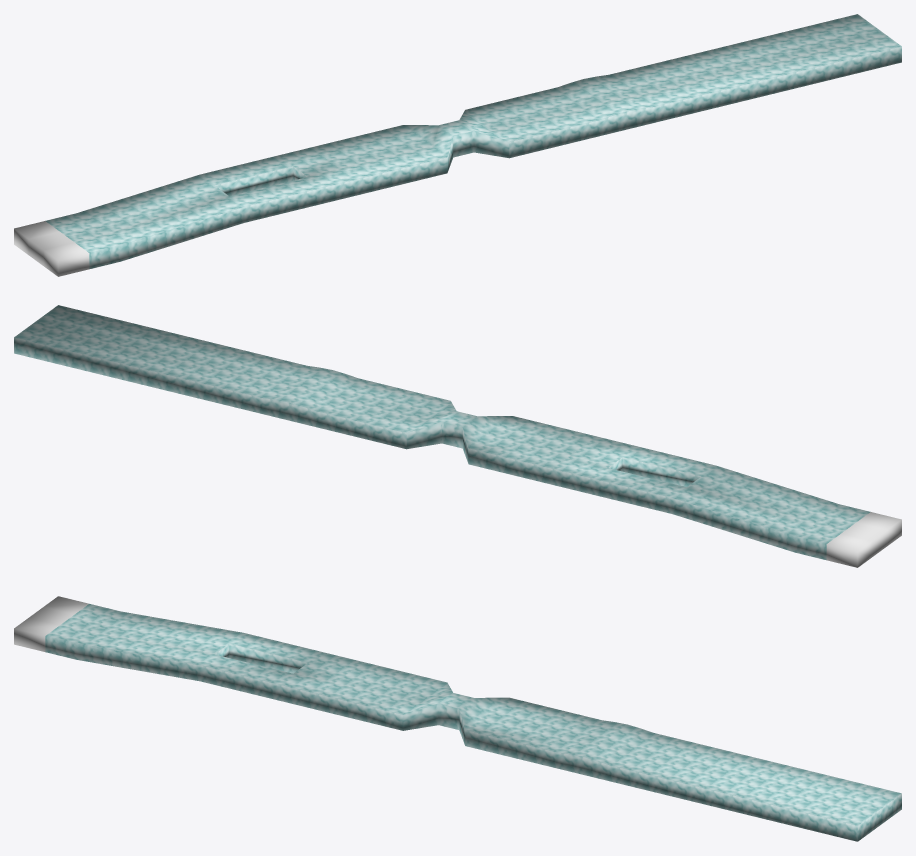
File: RaceTrial02.fbx
The picture shows the model from 3 angles, top to bottom: view 1: azimuth 30°, elevation 25°; view 2: azimuth 150°, elevation 25°; view 3: azimuth 330°, elevation 25°; orthographic projection.
Parts seen in each view (by area): view 1: RaceTrial02; view 2: RaceTrial02; view 3: RaceTrial02.
Boxes of the visible parts, x1=… form: RaceTrial02: x1=14, y1=14, x2=901, y2=276; RaceTrial02: x1=14, y1=305, x2=901, y2=567; RaceTrial02: x1=14, y1=596, x2=901, y2=841.
Size of what is drawn, in the model's own units: 110 by 10 by 3.75.
